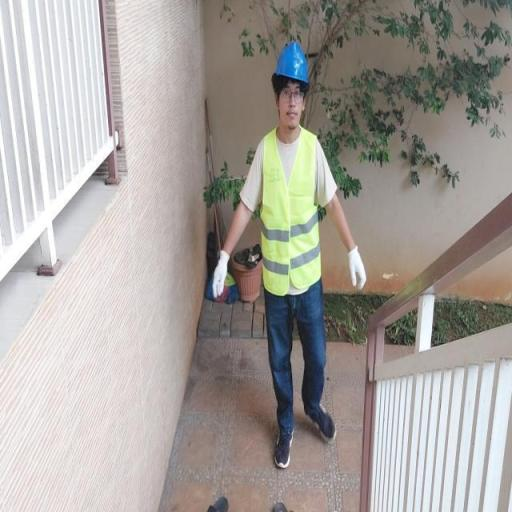Person: (200, 32, 380, 474)
gloves: (201, 247, 244, 295), (344, 247, 367, 292)
helmet: (268, 37, 314, 86)
vest: (256, 124, 324, 292)
